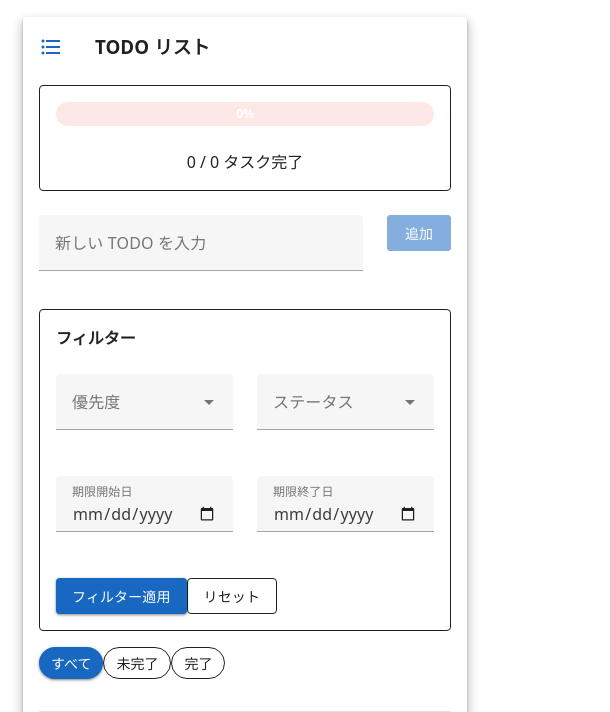
TodoList › updates progress bar when new todo is added
The image size is (610, 712).
Check: the text with test id "progress-stats" reads "0 / 0 タスク完了", box [187, 151, 303, 173]
Type "New Task" into the field labelled "新しい TODO を入力". click: point(201, 243)
box: [39, 215, 363, 271]
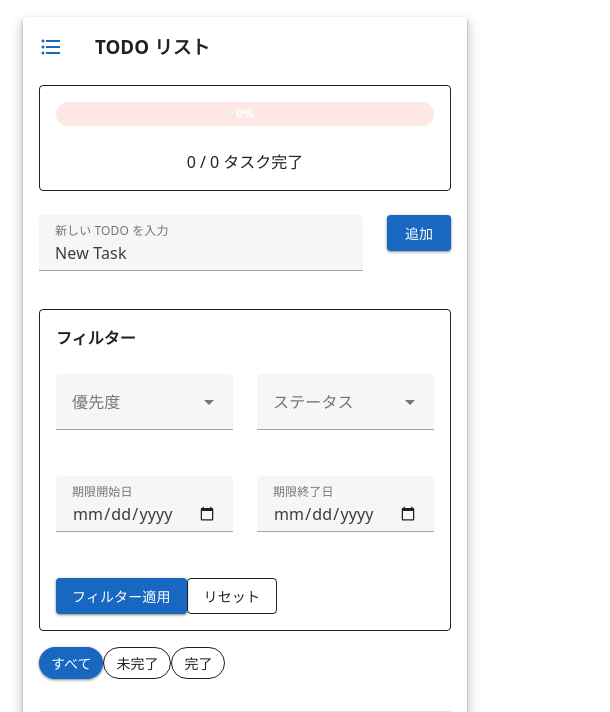
Click the button "追加". click: point(419, 233)
box: [387, 215, 451, 251]
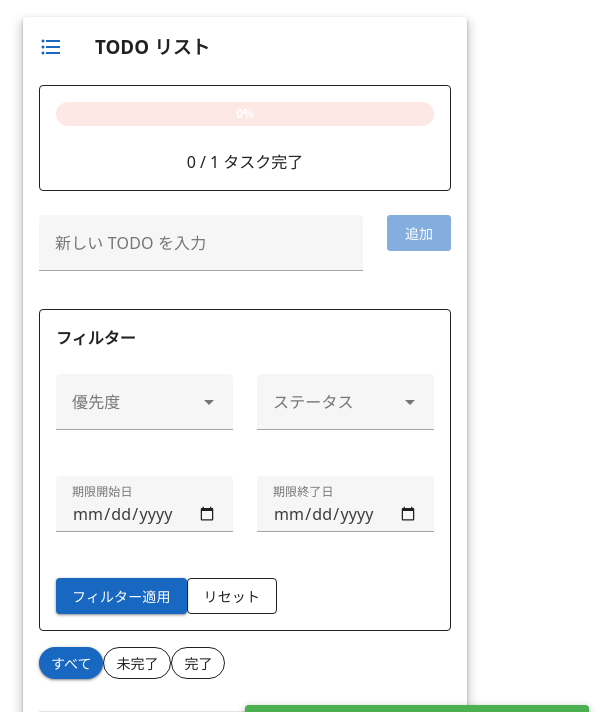
Check: the text with test id "progress-stats" reads "0 / 1 タスク完了", box [187, 151, 303, 173]
